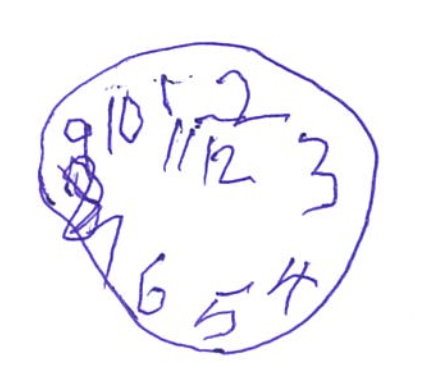1: (160, 70, 177, 119)
10: (105, 92, 145, 155)
11: (162, 117, 196, 176)
12: (199, 135, 255, 188)
2: (215, 70, 293, 125)
3: (295, 135, 339, 217)
4: (267, 254, 319, 316)
5: (193, 279, 254, 342)
6: (135, 251, 168, 318)
7: (85, 213, 124, 289)
8: (57, 153, 101, 241)
9: (60, 115, 96, 154)
contour: (37, 37, 380, 356)
